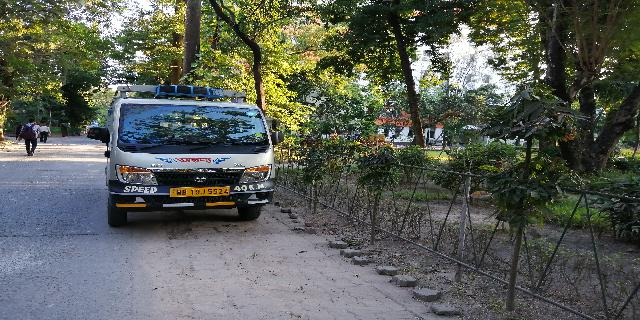Minitruck: (87, 84, 276, 228)
